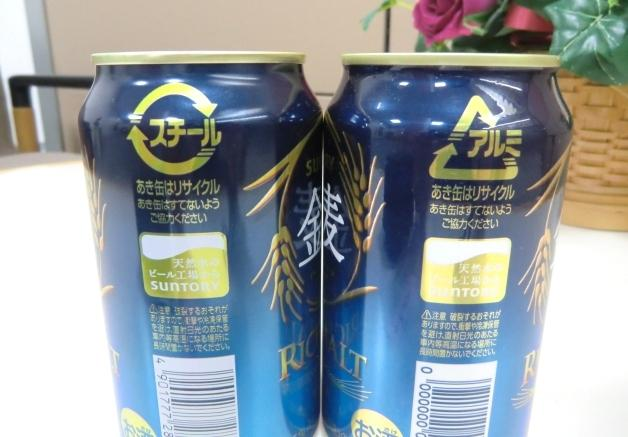metal: (325, 45, 571, 437), (78, 48, 321, 437)
